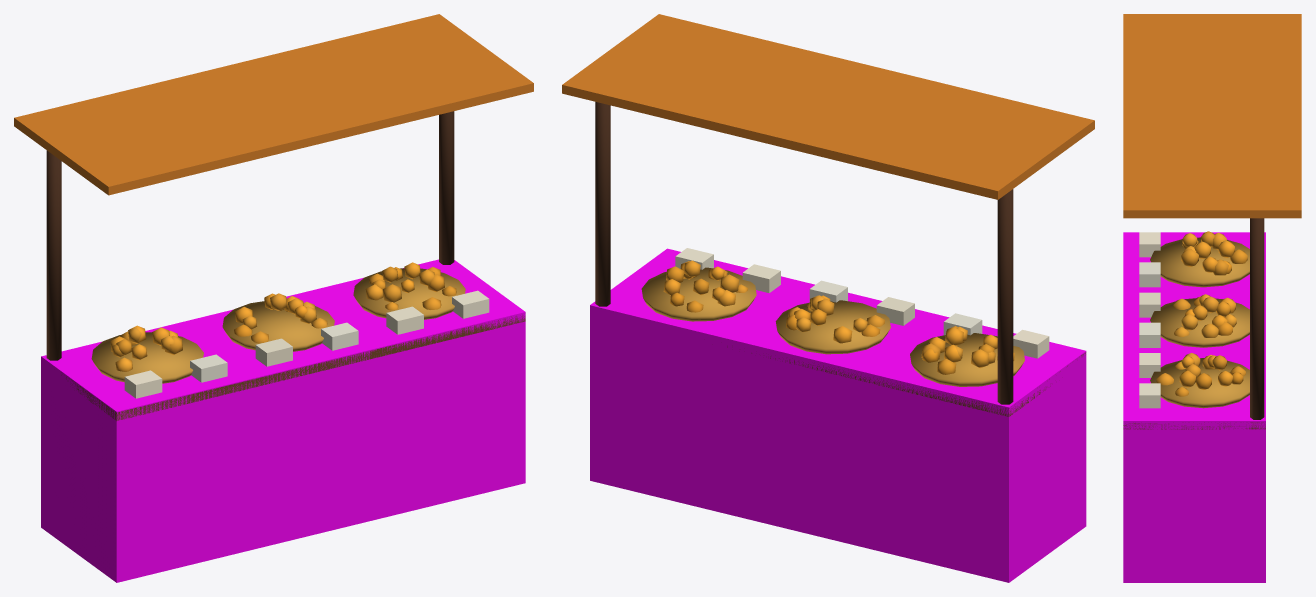
File: PRP_Prasadam_Counter_A.glb
3 renders of one model, left to right at view 1: azimuth 30°, elevation 25°; view 2: azimuth 150°, elevation 25°; view 3: azimuth 270°, elevation 25°, orthographic. The views are drawn at different scales.
Visible parts, largest first — view 1: COL_Counter, PRP_Prasadam_Counter_A_Mesh; view 2: COL_Counter, PRP_Prasadam_Counter_A_Mesh; view 3: PRP_Prasadam_Counter_A_Mesh, COL_Counter.
Boxes of the visible parts, <box> form: COL_Counter: <box>41,259,525,582</box>; PRP_Prasadam_Counter_A_Mesh: <box>14,14,533,420</box>; COL_Counter: <box>590,248,1086,582</box>; PRP_Prasadam_Counter_A_Mesh: <box>562,14,1094,416</box>; PRP_Prasadam_Counter_A_Mesh: <box>1123,14,1301,429</box>; COL_Counter: <box>1123,232,1265,582</box>.
Size of the model in its own units: 2.6 by 2.33 by 1.
